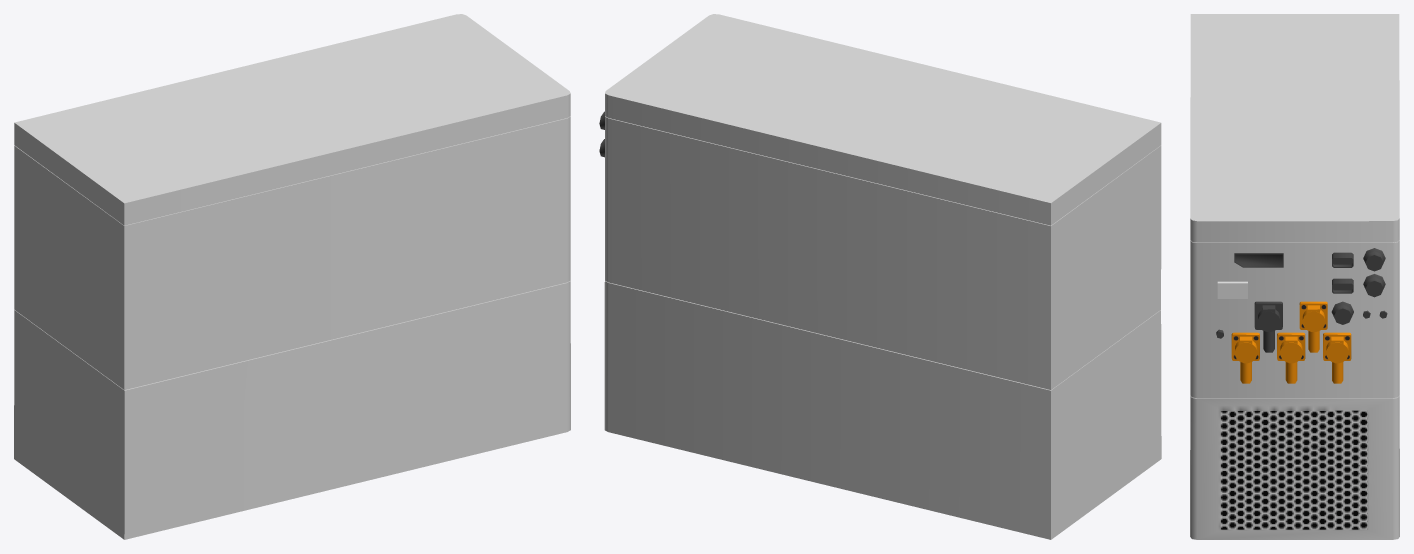
File: PCS.glb
The picture shows the model from 3 angles, left to right: view 1: azimuth 30°, elevation 25°; view 2: azimuth 150°, elevation 25°; view 3: azimuth 270°, elevation 25°; orthographic projection. The views are drawn at different scales.
Parts seen in each view (by area): view 1: PCS; view 2: PCS; view 3: PCS.
Boxes of the visible parts, x1,y1,x2,y2 form: PCS: (14, 14, 570, 539); PCS: (599, 14, 1161, 539); PCS: (1190, 14, 1399, 539).
Size of the model in its own units: 0.8622 by 0.5969 by 0.3564.
1 material, 1 textured.
